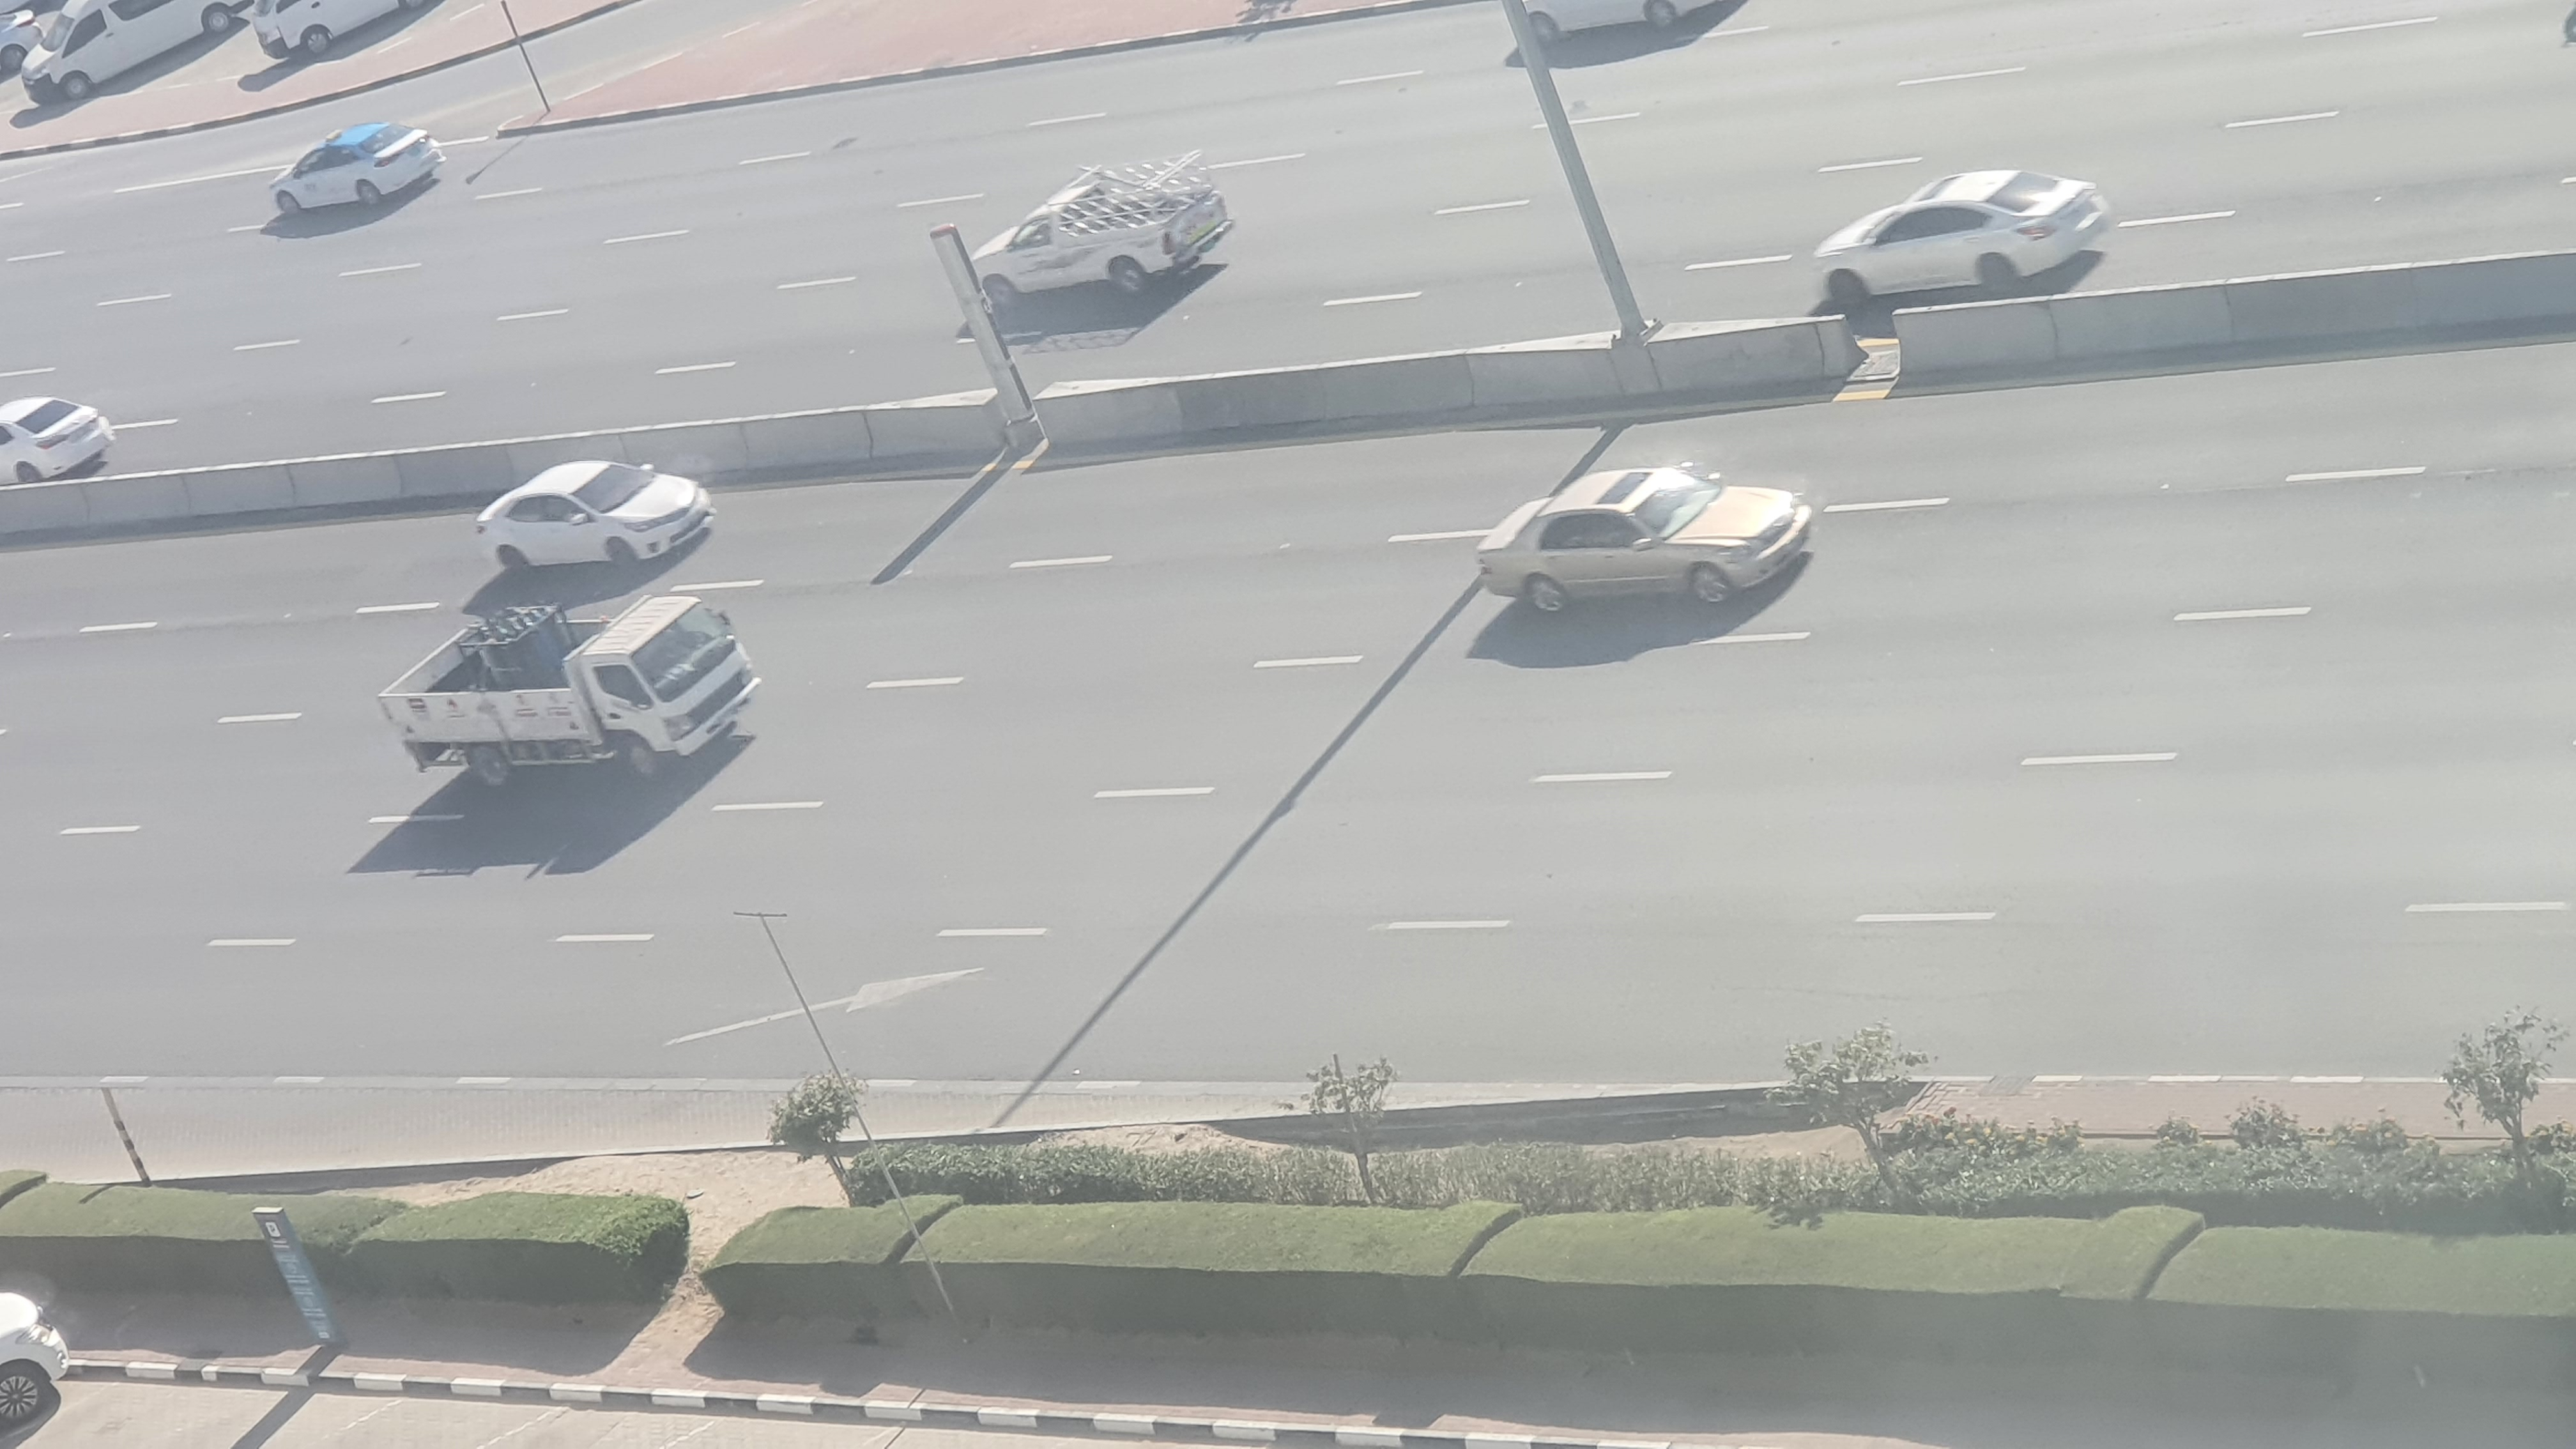NotSunroof: (467, 458, 722, 571)
Sunroof: (1474, 471, 1821, 621)
